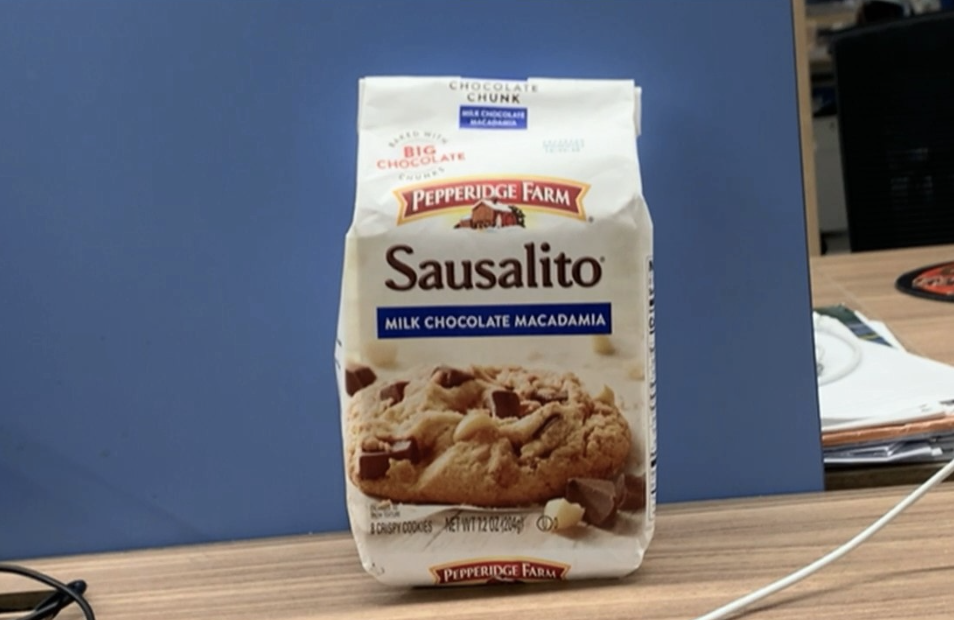cookies_200g-299g: (366, 111, 627, 557)
